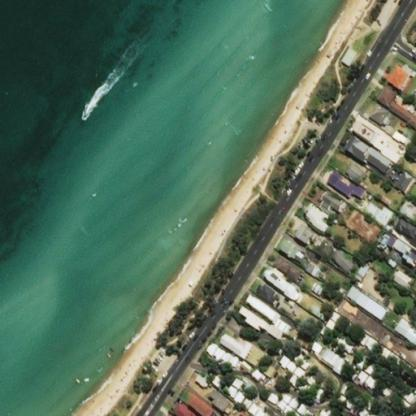ship: (80, 111, 87, 120)
